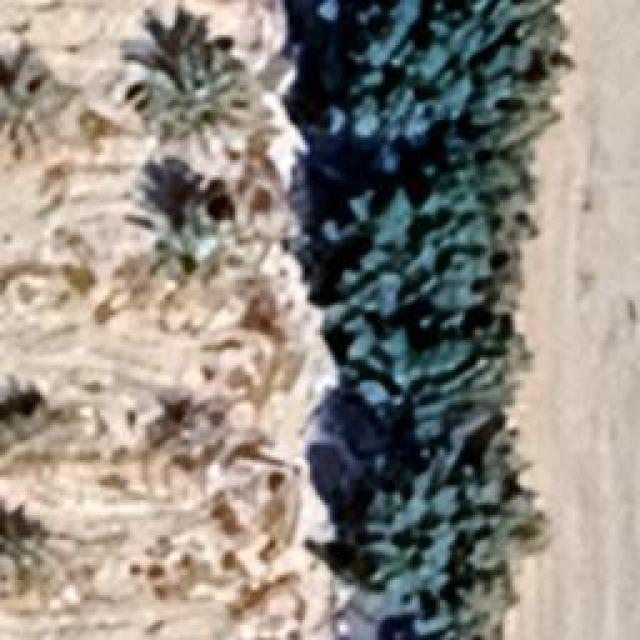PalmTree: (130, 28, 255, 146), (146, 178, 246, 282), (0, 45, 72, 160), (0, 490, 52, 607), (0, 385, 58, 483)
